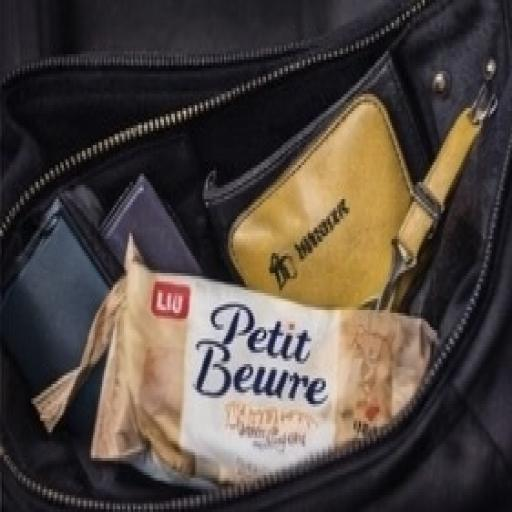petit_beurre: (62, 196, 446, 496)
